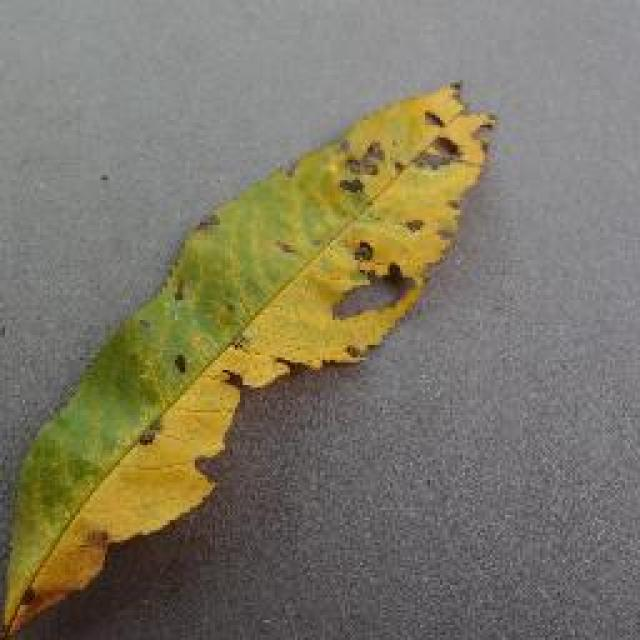Peach_Bacterial_Spot: (193, 185, 440, 407)
